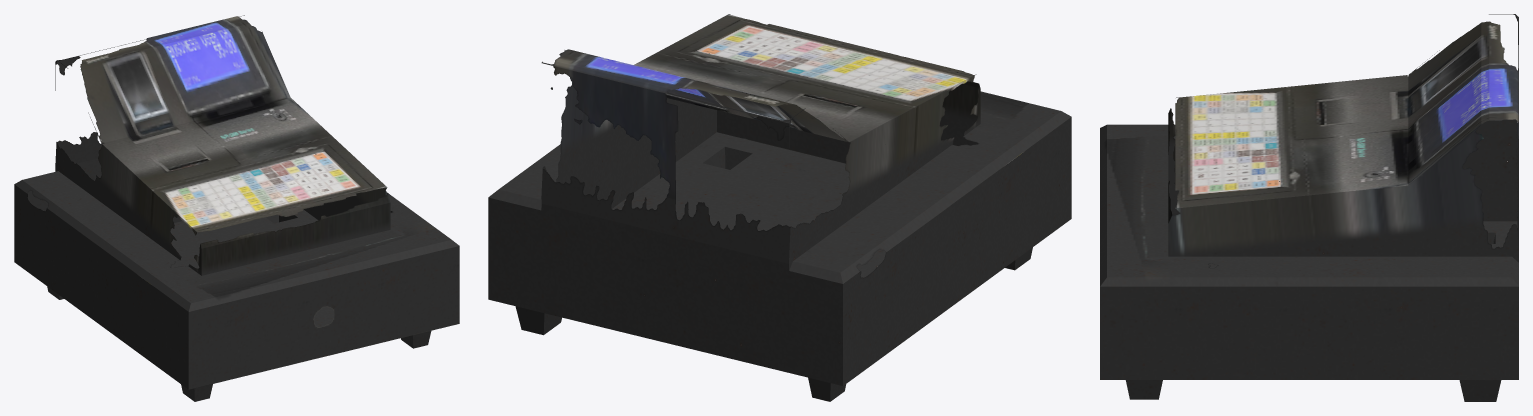
Rendered from CashRegisterTextured.fbx.
3 renders of one model, left to right at view 1: azimuth 30°, elevation 25°; view 2: azimuth 150°, elevation 25°; view 3: azimuth 270°, elevation 25°, orthographic. The views are drawn at different scales.
Visible parts, largest first — view 1: Cube.003; view 2: Cube.003; view 3: Cube.003.
Part boxes in pixels (x1,y1,x2,y2): Cube.003: [14, 15, 459, 401]; Cube.003: [488, 14, 1071, 401]; Cube.003: [1100, 14, 1518, 401].
Bounding box in the file's own units: 218 × 169 × 244.
